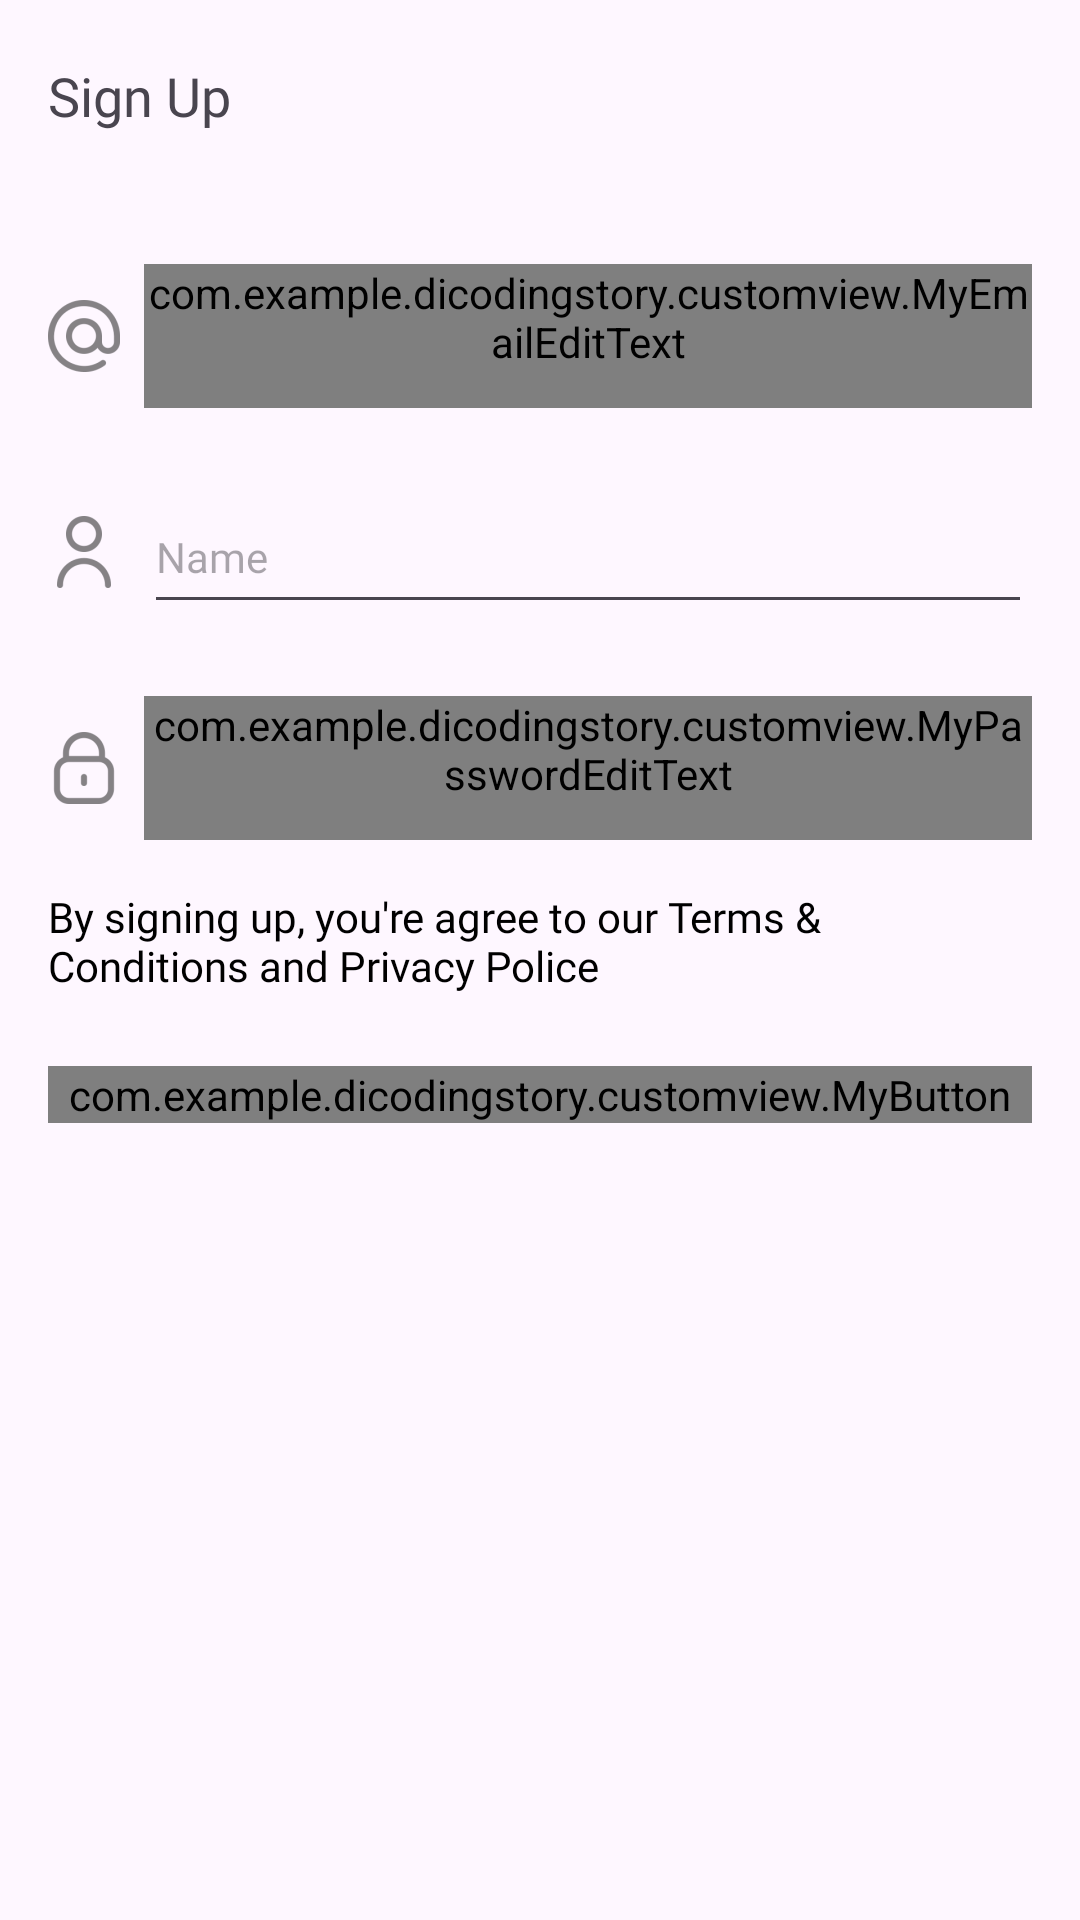

Point at icon controls on the screen. Image size 1080*1920, points as (x=x, y=y).
user: (x=84, y=552)
